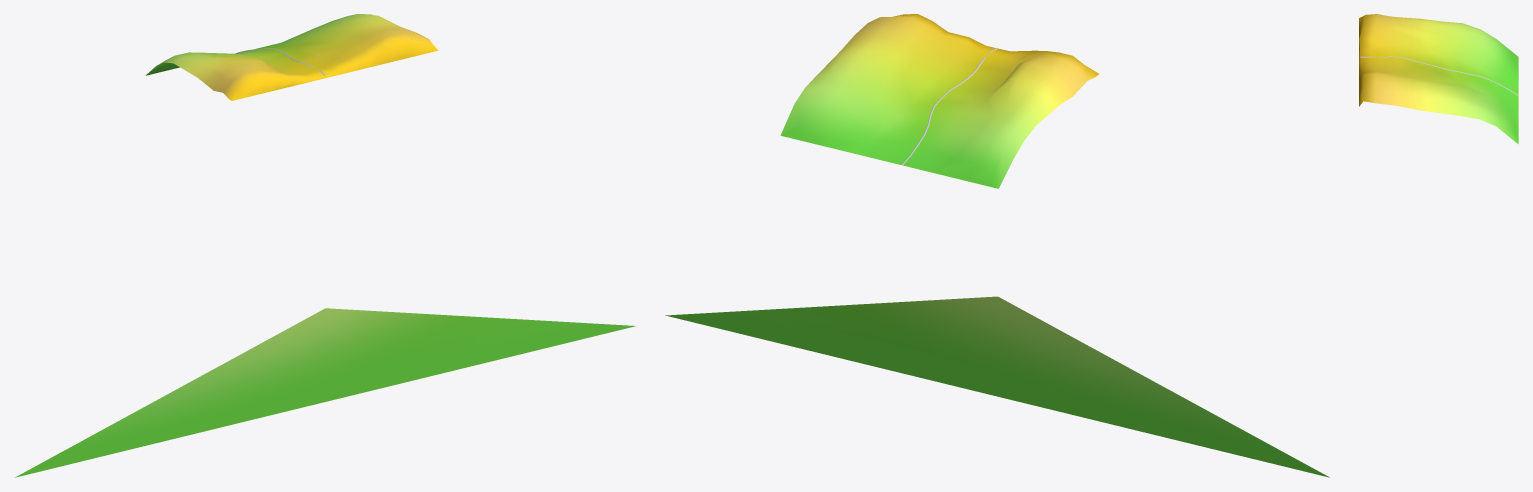
The model's file is L_SpringSummer1.fbx.
3 views of the same model, side by side, from view 1: azimuth 30°, elevation 25°; view 2: azimuth 150°, elevation 25°; view 3: azimuth 270°, elevation 25° (orthographic). The views are drawn at different scales.
Parts seen in each view (by area): view 1: Obj, LocSpringSummer1; view 2: Obj, LocSpringSummer1; view 3: LocSpringSummer1, WireSS1.
Boxes of the visible parts, left/top/right/bottom form: Obj: left=15, top=308, right=635, bottom=477; LocSpringSummer1: left=145, top=14, right=438, bottom=100; Obj: left=665, top=296, right=1329, bottom=477; LocSpringSummer1: left=780, top=14, right=1098, bottom=188; LocSpringSummer1: left=1359, top=14, right=1518, bottom=144; WireSS1: left=1360, top=56, right=1518, bottom=95.
Bounding box in the file's own units: 200 × 105 × 50.46.
